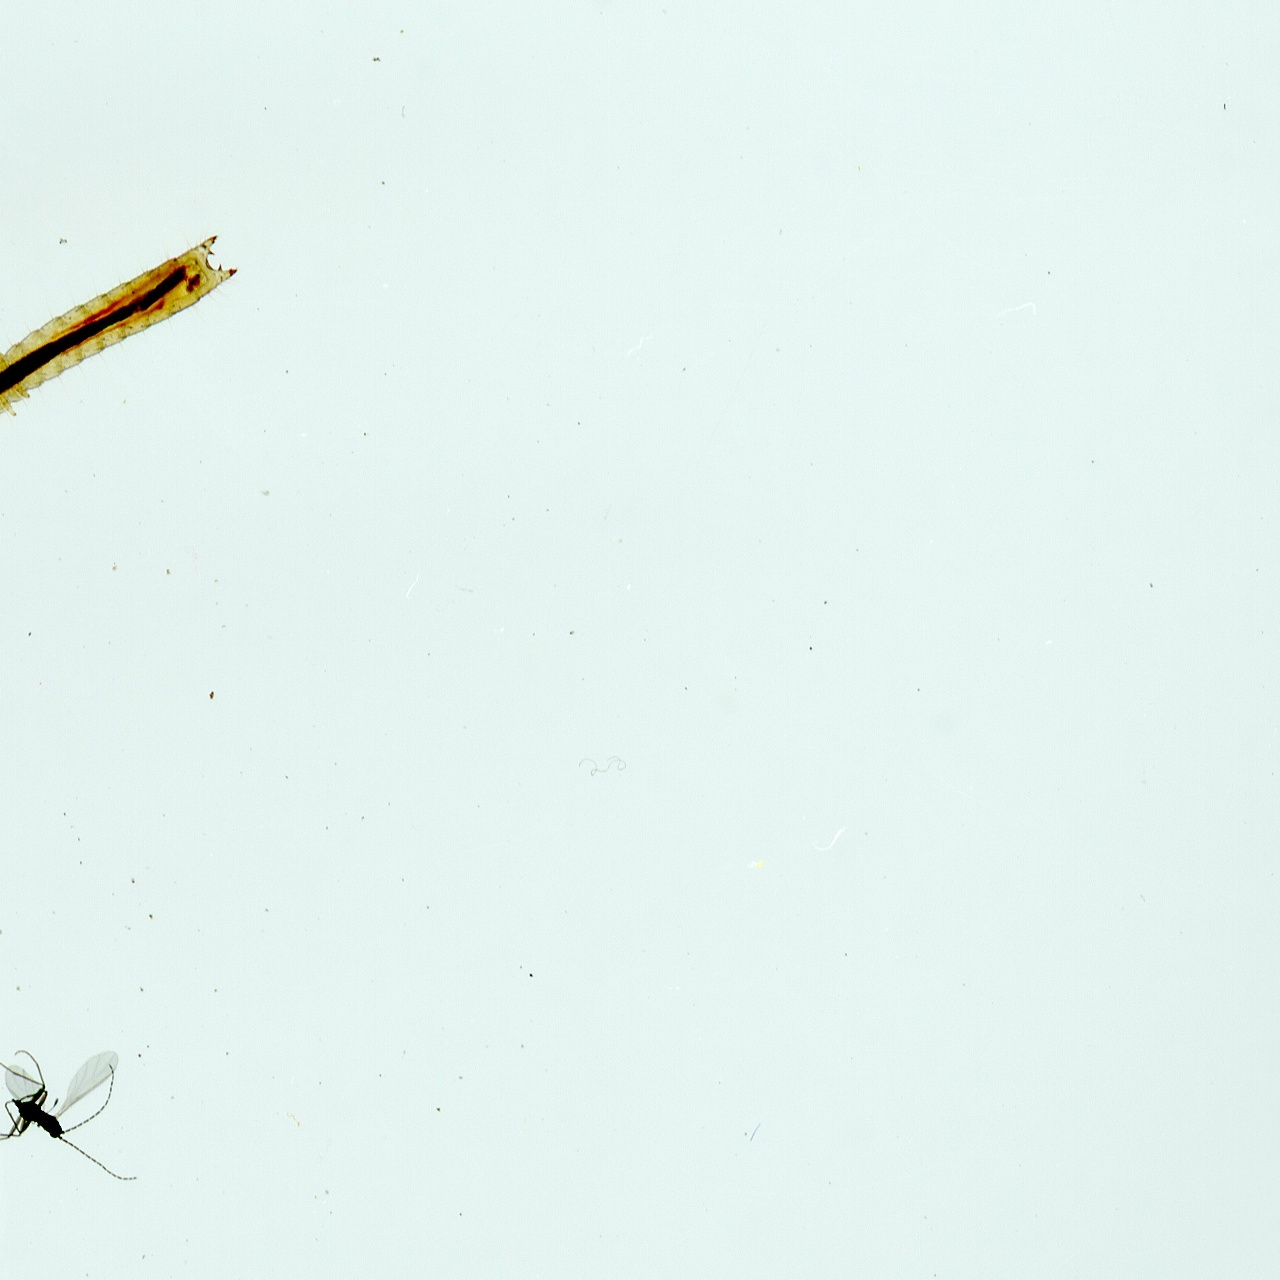arthropod: (0, 233, 239, 443), (0, 1043, 148, 1185)
